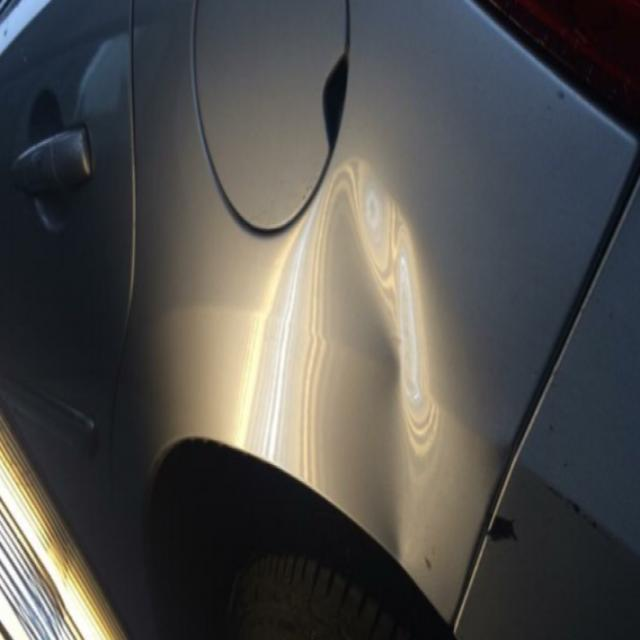dents: (282, 160, 475, 573)
